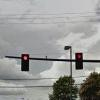Traffic light: (15, 42, 36, 77)
